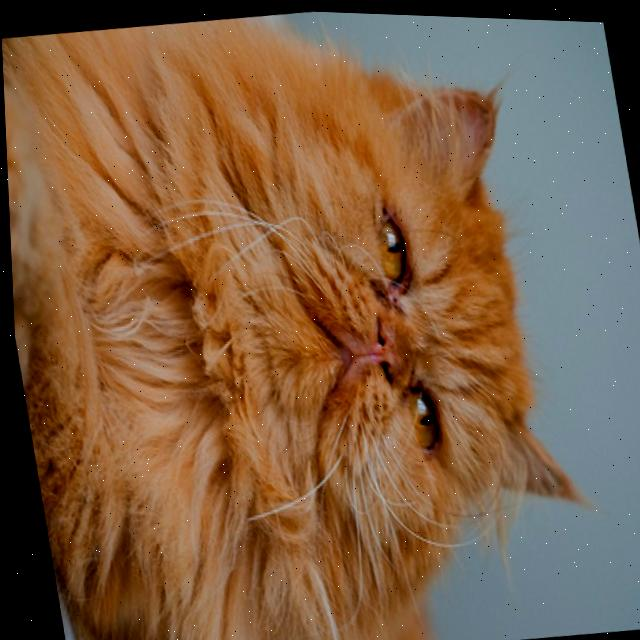Persian: (0, 0, 618, 640)
